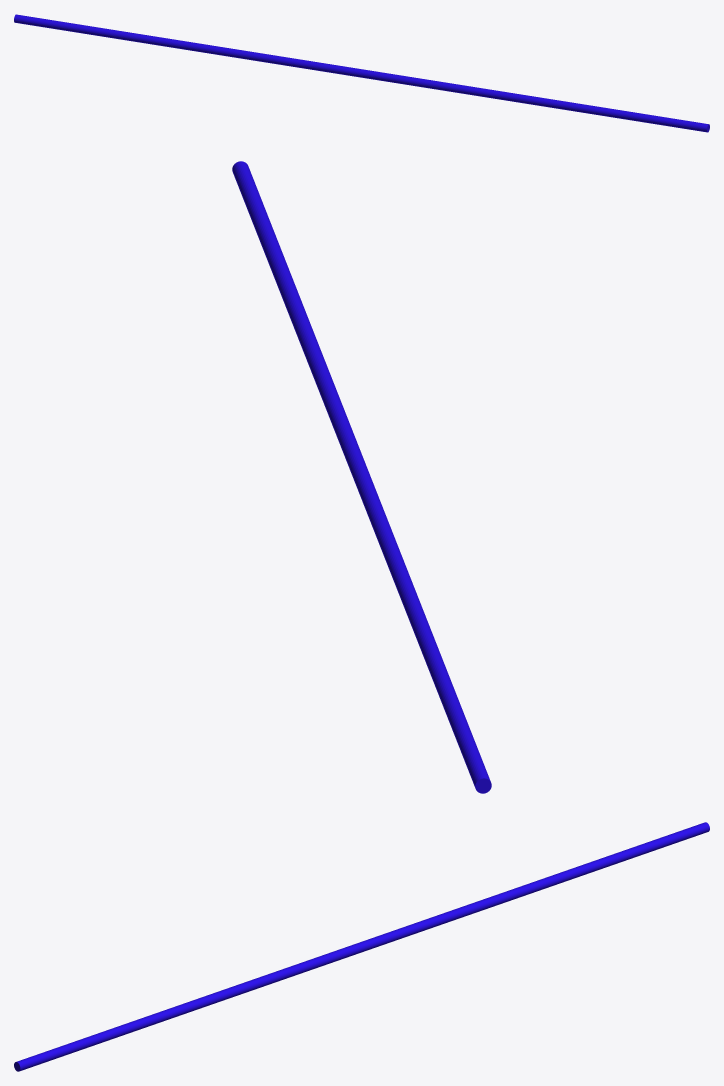
The picture shows the model from 3 angles, top to bottom: view 1: azimuth 30°, elevation 25°; view 2: azimuth 150°, elevation 25°; view 3: azimuth 270°, elevation 25°; orthographic projection. The views are drawn at different scales.
Visible parts, largest first — view 1: Циліндр.004; view 2: Циліндр.004; view 3: Циліндр.004.
Part boxes in pixels (left/top/right/bottom): Циліндр.004: left=14, top=14, right=709, bottom=132; Циліндр.004: left=232, top=161, right=491, bottom=793; Циліндр.004: left=14, top=822, right=709, bottom=1071.
Size of the model in its own units: 5.47 by 0.0964 by 6.62.
